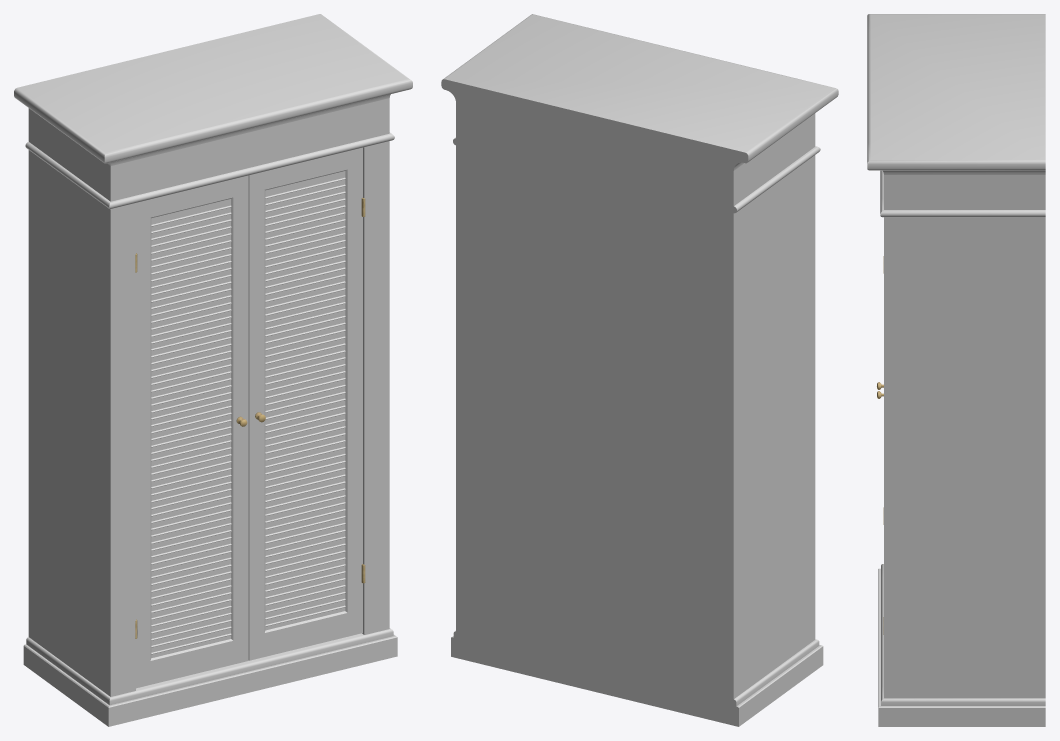
The model's file is wardrobe.glb.
3 renders of one model, left to right at view 1: azimuth 30°, elevation 25°; view 2: azimuth 150°, elevation 25°; view 3: azimuth 270°, elevation 25°, orthographic.
Parts seen in each view (by area): view 1: carcass, louvre_r, louvre_l, door_r, door_l, slats_r, slats_l; view 2: carcass; view 3: carcass.
Part boxes in pixels (x1,y1,x2,y2): carcass: (14,14,412,726); louvre_r: (265,171,345,630); louvre_l: (151,199,230,658); door_r: (248,147,362,660); door_l: (136,175,248,688); slats_r: (265,177,345,626); slats_l: (151,205,231,654); carcass: (441,14,838,726); carcass: (867,14,1045,726).
Bounding box in the file's own units: 1.22 × 2.18 × 0.618.
1 material, 1 textured.
